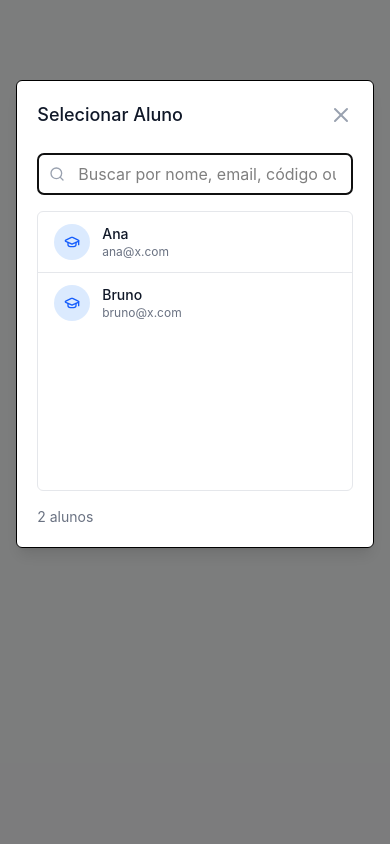
Test case: StudentSelectModal › filters by name, email, codigo and cpf digits
In the field with placeholder "Buscar por nome, email, código ou CPF...": (195, 174) 37,153 -> 353,195, type "Ana"
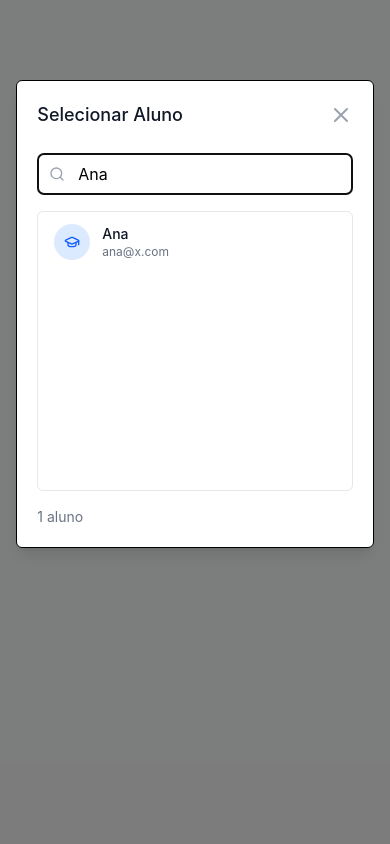
Check: the button "Bruno" is gone
